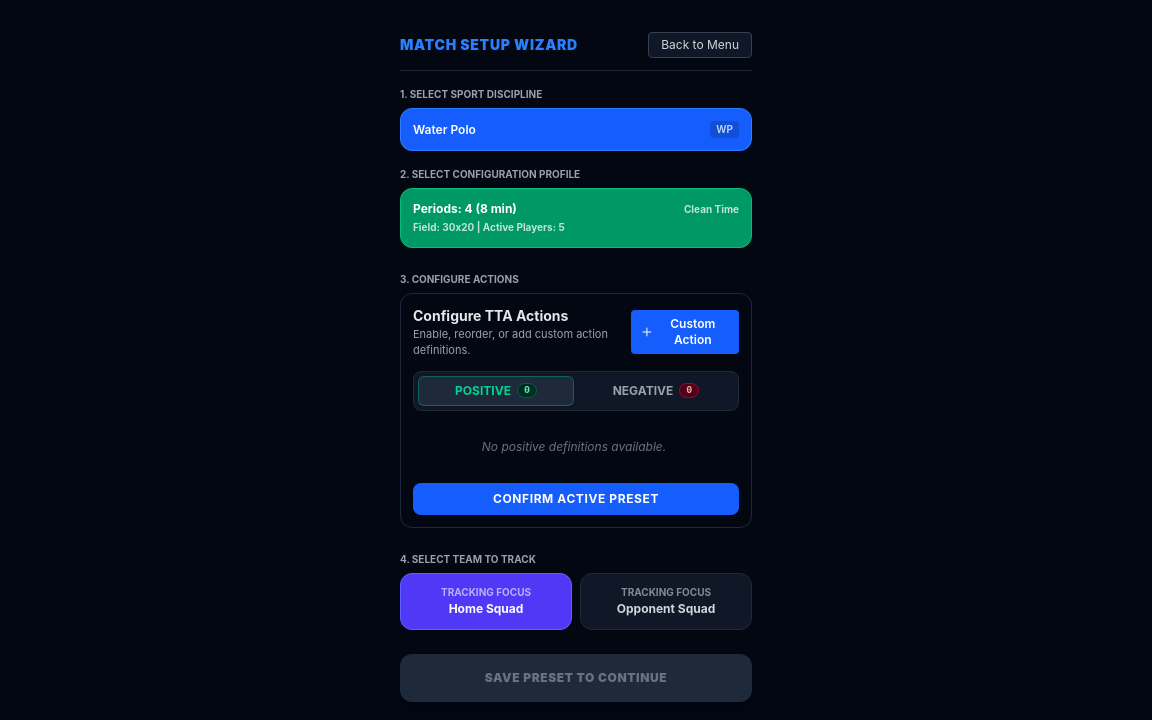
it: App Bootstrapping Component › confirms zero actions without saving preset and unlocks Quick Start match button
Check: the button "Periods: 4" is shown, box [400,188,752,248]
Click the button "Confirm Active Preset" at (576, 499), box [413,483,739,515]
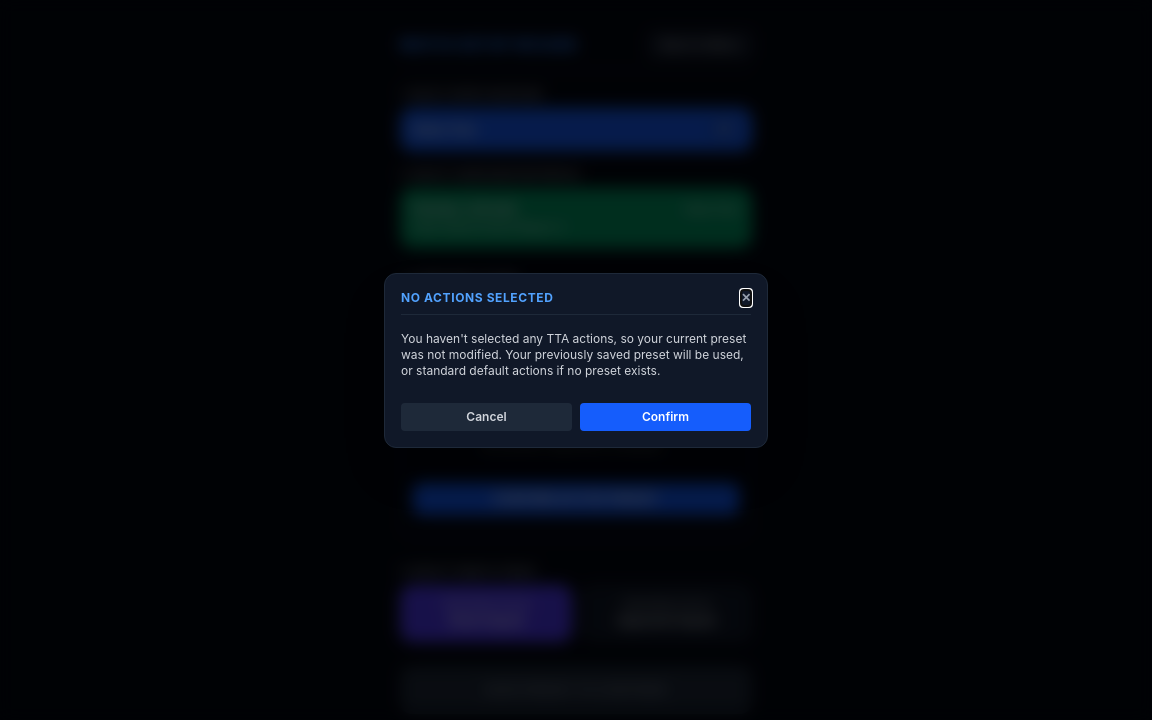
Click the button "Confirm" at (666, 416), box [580,402,751,430]
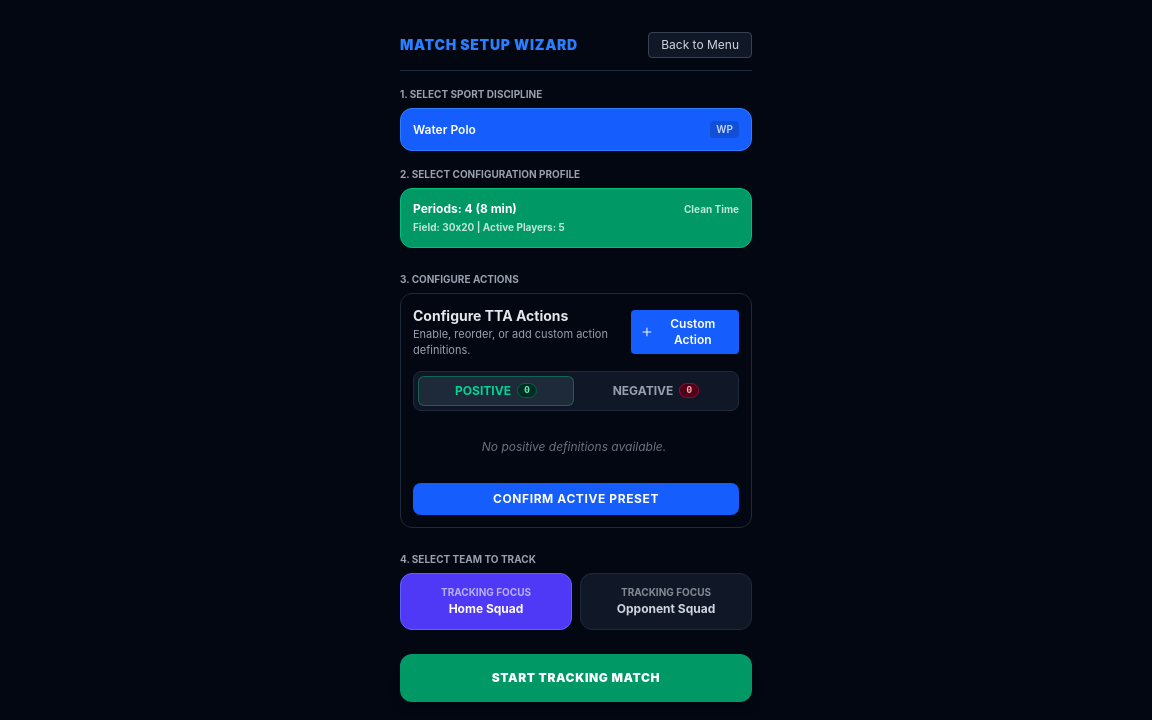
Check: the button "Start Tracking Match" is shown, box [400,654,752,702]
